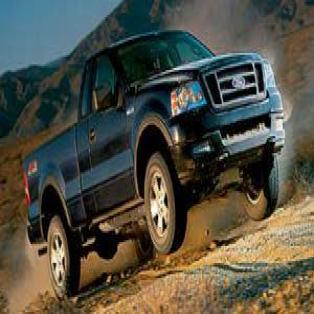Auto: (20, 23, 288, 299)
